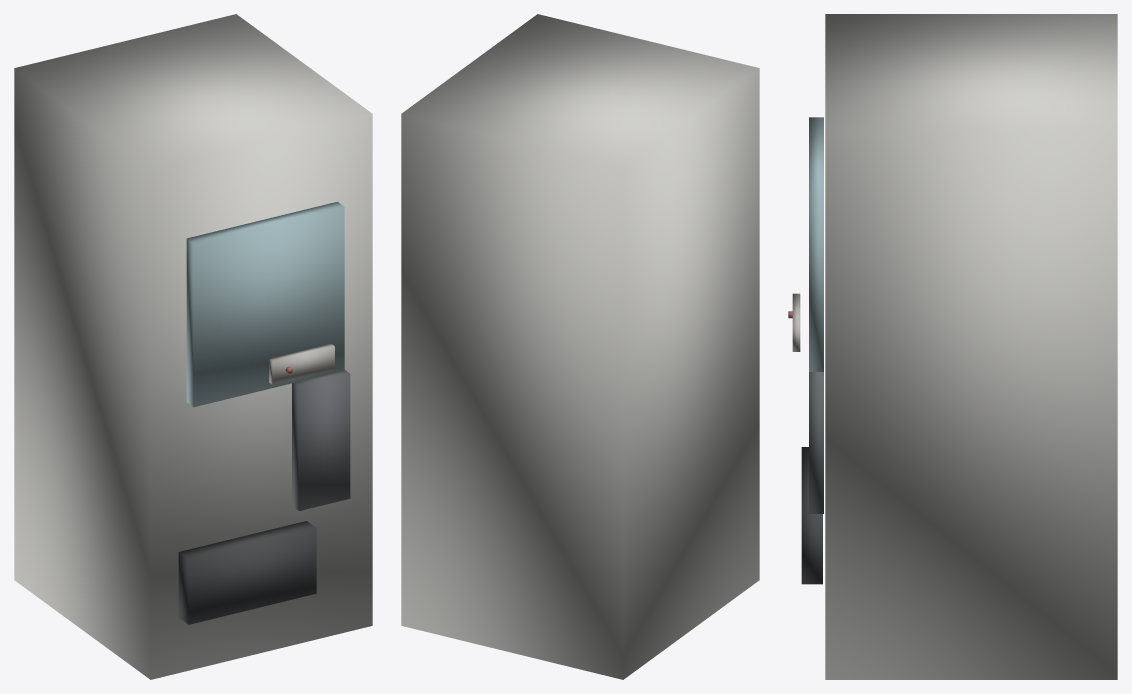
The model's file is motel_ice_machine__deep.glb.
3 views of the same model, side by side, from view 1: azimuth 30°, elevation 25°; view 2: azimuth 150°, elevation 25°; view 3: azimuth 270°, elevation 25° (orthographic). The views are drawn at different scales.
Visible parts, largest first — view 1: world; view 2: world; view 3: world.
Boxes of the visible parts, x1=… form: world: x1=14, y1=14, x2=372, y2=679; world: x1=401, y1=14, x2=759, y2=679; world: x1=788, y1=14, x2=1117, y2=679.
Size of the model in its own units: 0.78 by 1.72 by 0.9345.
